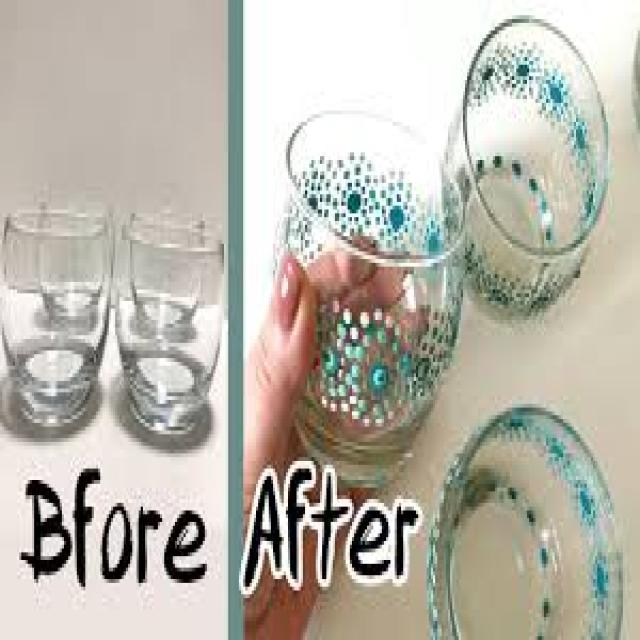Dry: (271, 114, 467, 484), (442, 12, 613, 326), (0, 202, 114, 424)
